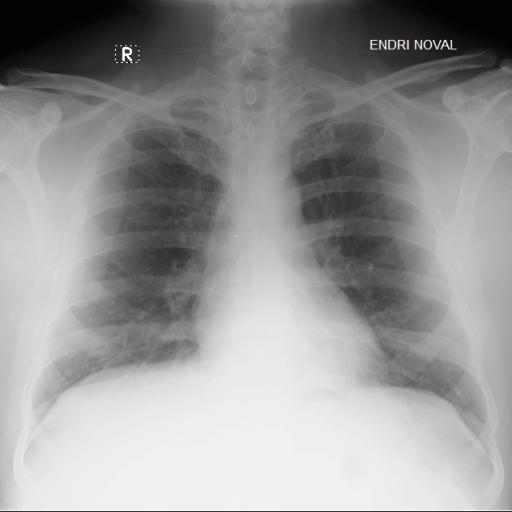normal: (16, 48, 500, 473)
